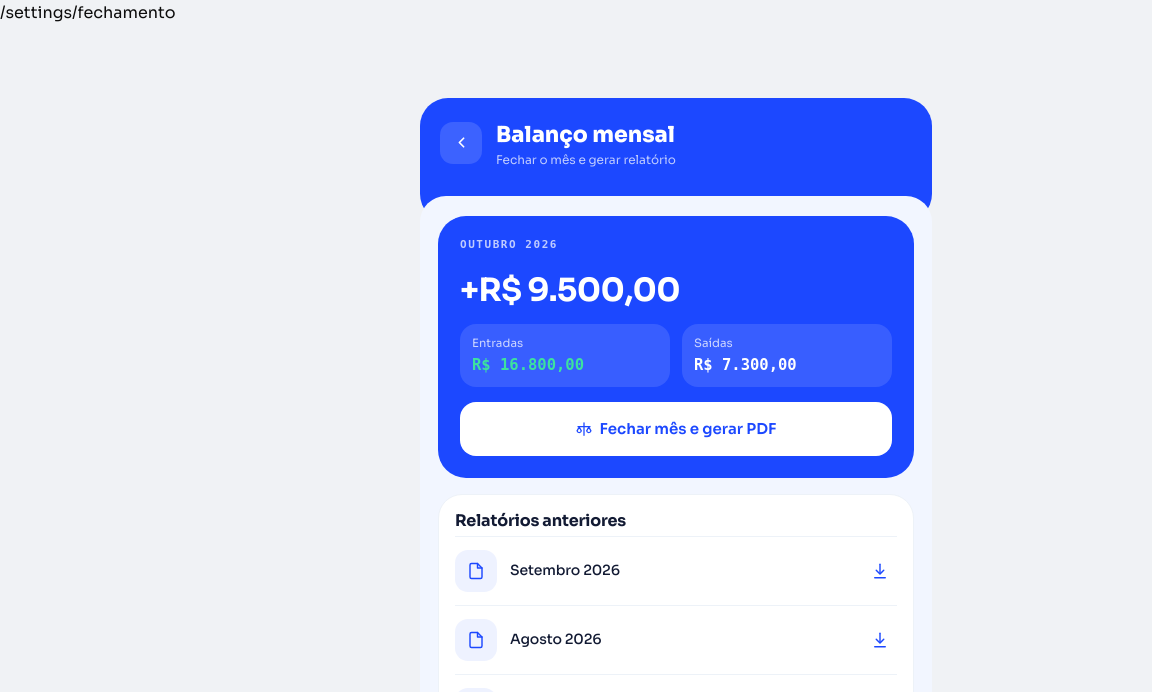
Balanço mensal › erro ao fechar aparece como aviso e o botão volta
The width and height of the screenshot is (1152, 692).
Expected: the text "+R$ 9.500,00" is shown, [460, 270, 680, 310]
Step 1. Click the button "Fechar mês e gerar PDF" → (676,429), box [460, 402, 892, 456]
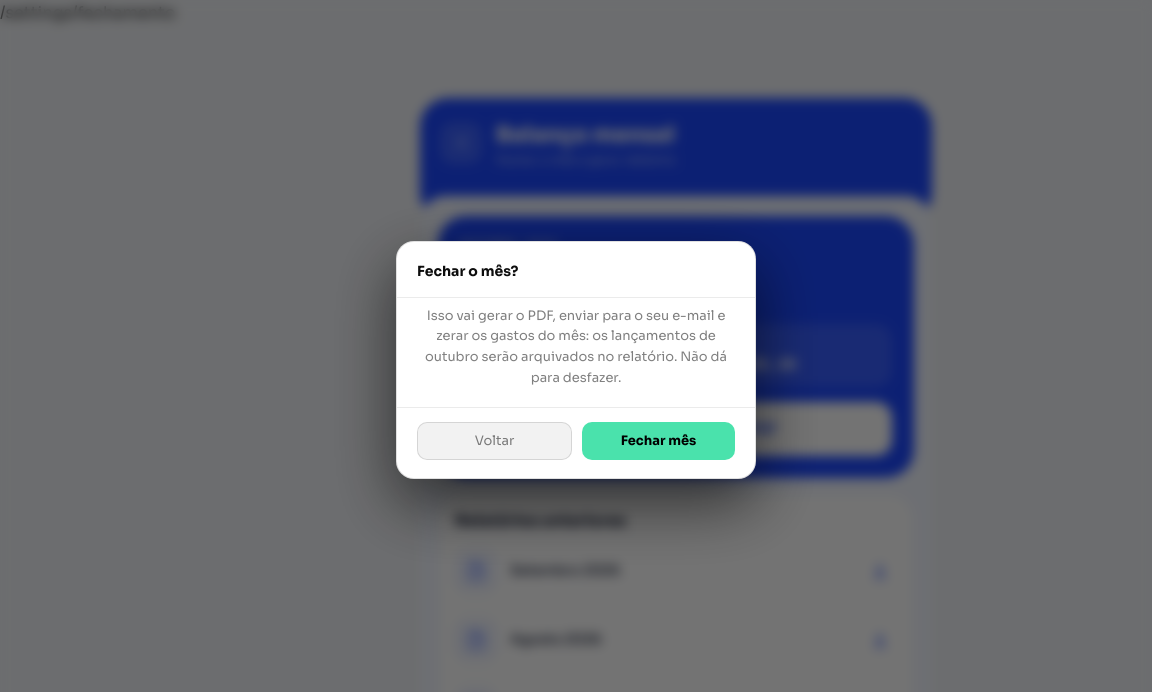
Step 2. Click the button "Fechar mês" → (658,441), box [582, 422, 735, 460]
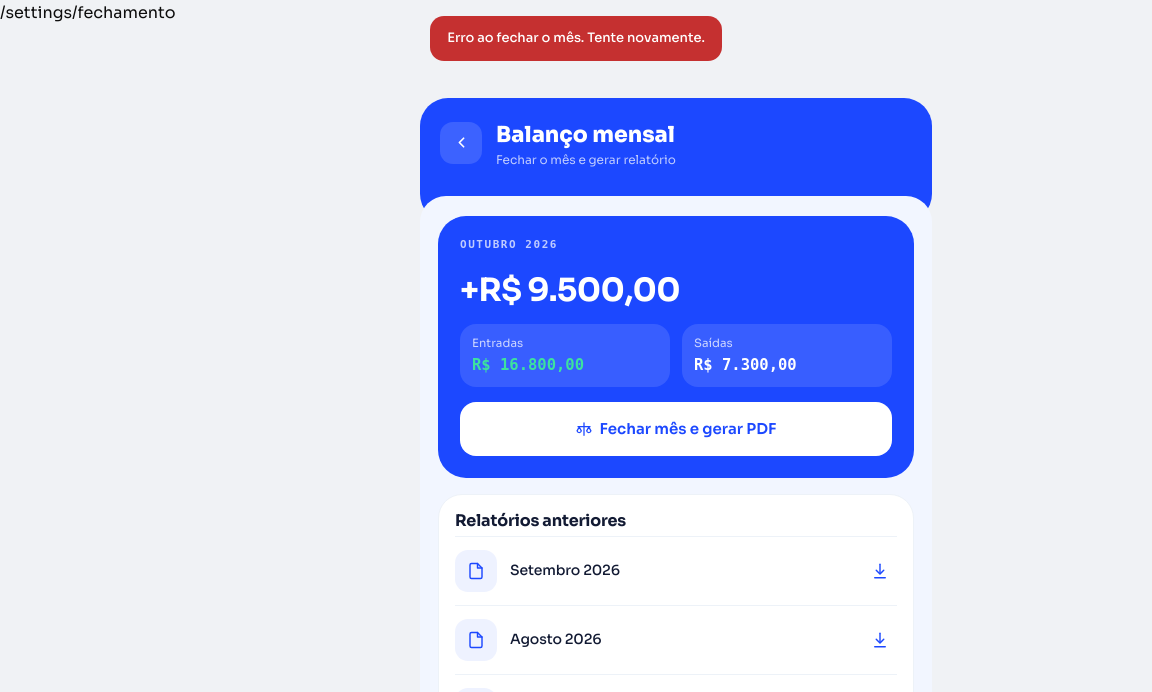
Expected: the button "Fechar mês e gerar PDF" is enabled, [460, 402, 892, 456]
Expected: the text "Erro ao fechar o mês. Tente novamente." is shown, [430, 16, 722, 61]
